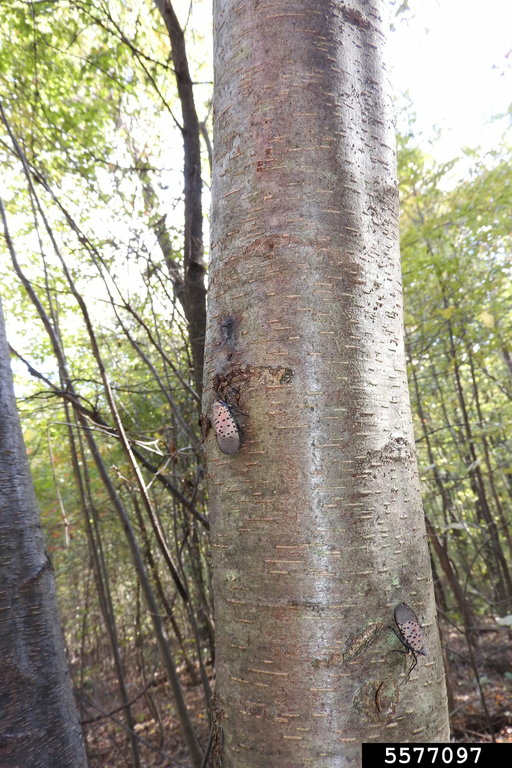adult: (384, 596, 438, 681), (194, 396, 244, 475)
